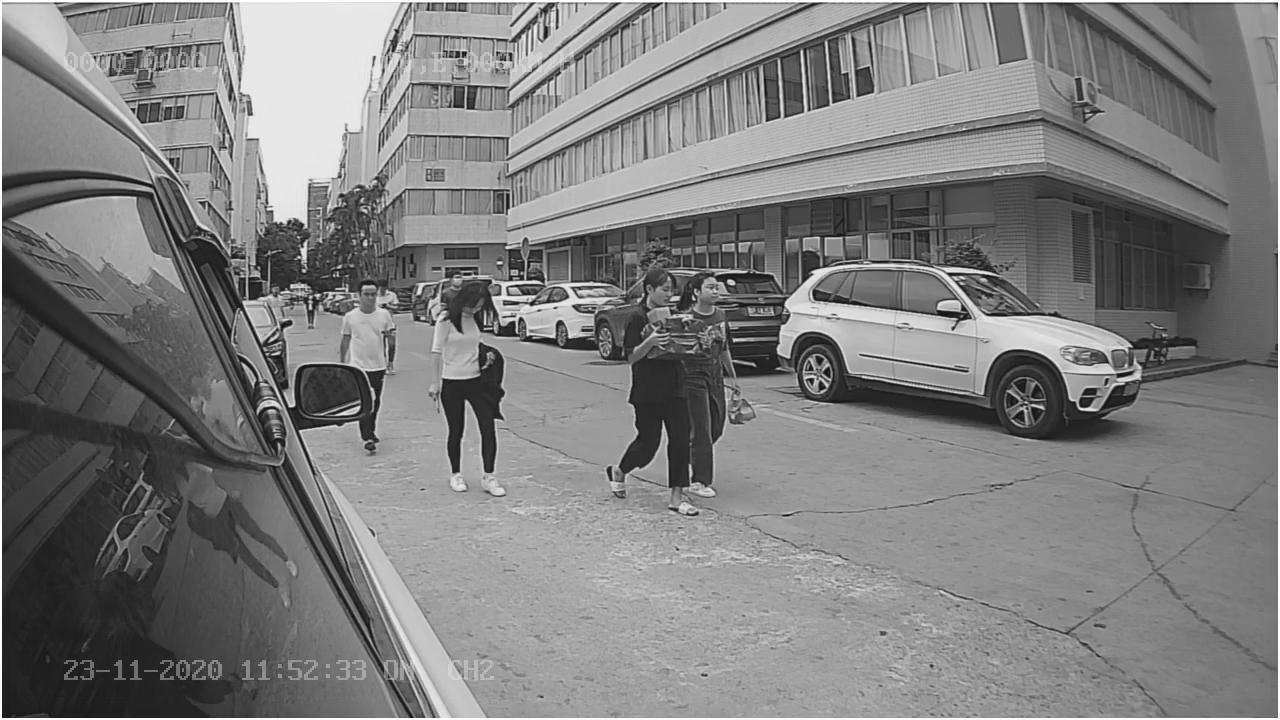person: (432, 286, 504, 499)
